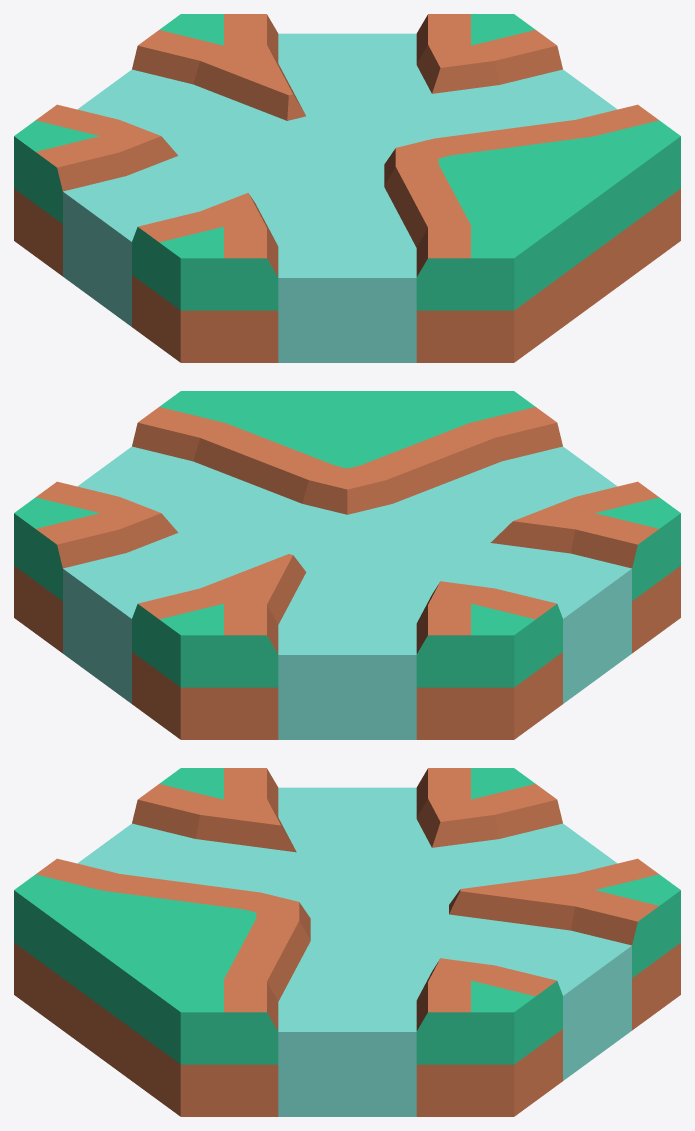
The model's file is river_intersectionG.dae.
The picture shows the model from 3 angles, top to bottom: view 1: azimuth 30°, elevation 25°; view 2: azimuth 150°, elevation 25°; view 3: azimuth 270°, elevation 25°; orthographic projection.
Visible parts, largest first — view 1: river_intersectionG; view 2: river_intersectionG; view 3: river_intersectionG.
Part boxes in pixels (x1,y1,x2,y2): river_intersectionG: (14, 14, 680, 362); river_intersectionG: (14, 391, 680, 739); river_intersectionG: (14, 768, 680, 1116).
Size of the model in its own units: 1 by 0.2 by 1.15.
